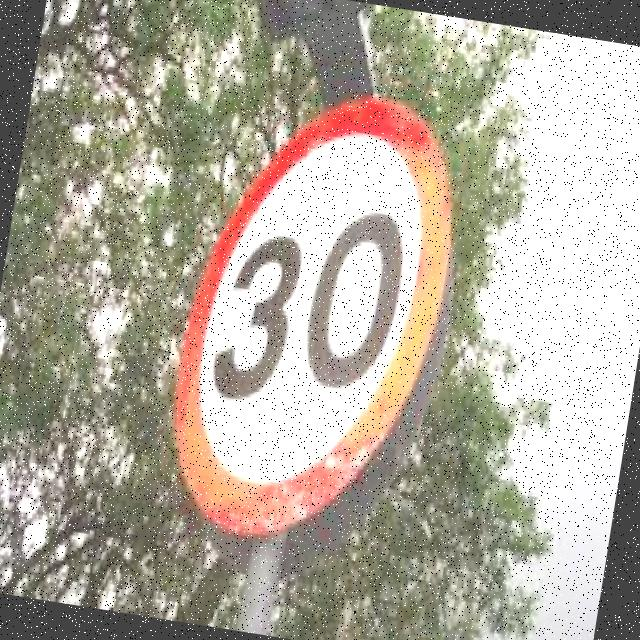Ograniczenie predkosci do 30: (158, 74, 478, 562)
